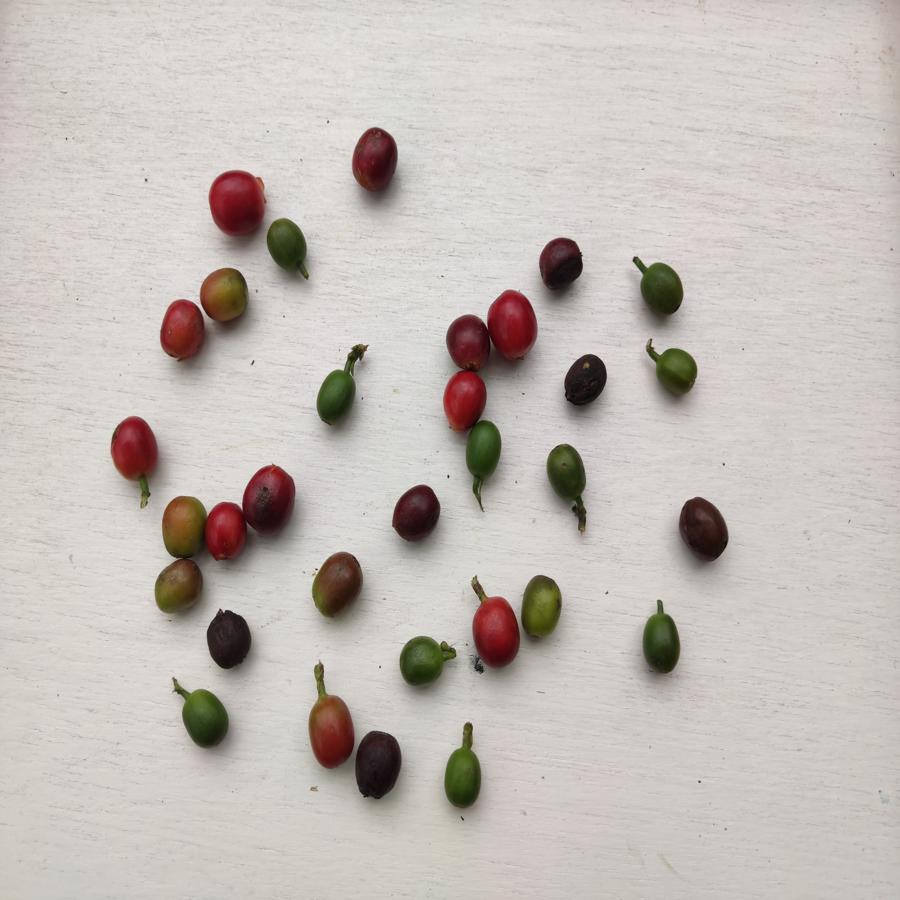Inmaduro: (181, 688, 231, 750), (398, 632, 450, 690), (443, 741, 485, 810), (641, 608, 685, 673), (638, 261, 685, 316), (544, 442, 589, 499), (265, 217, 308, 273), (314, 369, 356, 426), (466, 420, 504, 483), (653, 347, 699, 395)
Maduro: (203, 168, 264, 238), (490, 289, 538, 363), (472, 597, 519, 667), (108, 415, 158, 480), (156, 299, 203, 361), (441, 368, 484, 430), (205, 502, 245, 564)
Pinton: (304, 691, 356, 770), (309, 552, 365, 617), (151, 558, 204, 617), (520, 571, 565, 636), (199, 268, 250, 324), (160, 495, 204, 558)
Sobremaduro: (241, 464, 295, 536), (355, 731, 404, 801), (678, 497, 729, 562), (351, 127, 400, 194), (204, 608, 255, 672), (536, 236, 587, 294), (392, 484, 441, 543), (443, 313, 488, 369), (562, 354, 608, 406)
